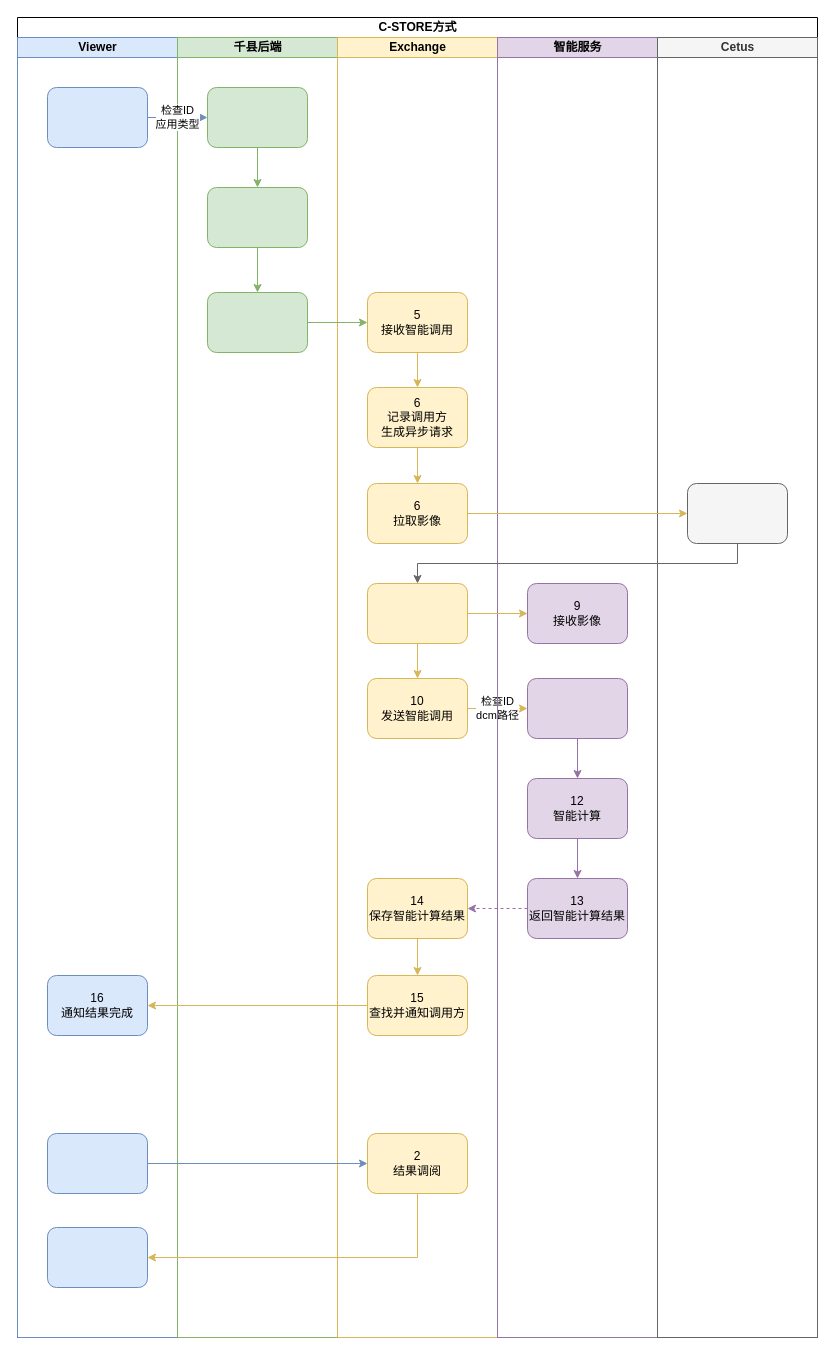
This 835x1355 diagram has some shape labels left out. The shapes that lost their labels are listed below. From the top down, each one's centre as x and y in pixels, then its label:
the point at 97,117: 1 发起智能请求
the point at 257,117: 2 接收智能请求
the point at 257,217: 3 查找智能应用 （从应用注册）
the point at 257,322: 4 组装智能调用
the point at 737,513: 7 影像调阅服务
the point at 417,613: 8 影像推送 C-STORE
the point at 577,708: 11 接收智能调用
the point at 97,1163: 1 请求结果查看
the point at 97,1257: 3 返回结果查看
